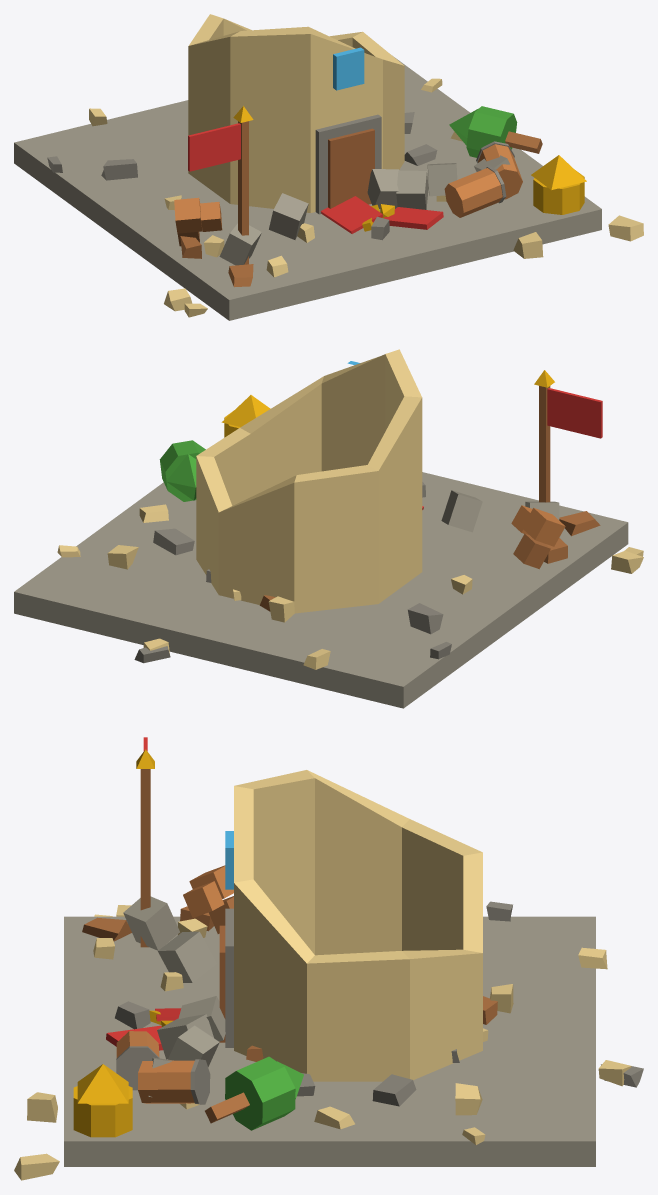
The model's file is defense_tower_t2_v2_dmg2.glb.
3 views of the same model, one above another, from view 1: azimuth 30°, elevation 25°; view 2: azimuth 150°, elevation 25°; view 3: azimuth 270°, elevation 25° (orthographic). The views are drawn at different scales.
Visible parts, largest first — view 1: defense_tower_t2_v2_dmg2; view 2: defense_tower_t2_v2_dmg2; view 3: defense_tower_t2_v2_dmg2.
Boxes of the visible parts, bbox=[...] form: defense_tower_t2_v2_dmg2: bbox=[14, 14, 643, 320]; defense_tower_t2_v2_dmg2: bbox=[14, 349, 643, 708]; defense_tower_t2_v2_dmg2: bbox=[14, 737, 643, 1180].
Bounding box in the file's own units: 0.8733 × 0.3844 × 0.8883.
1 material, 1 textured.
